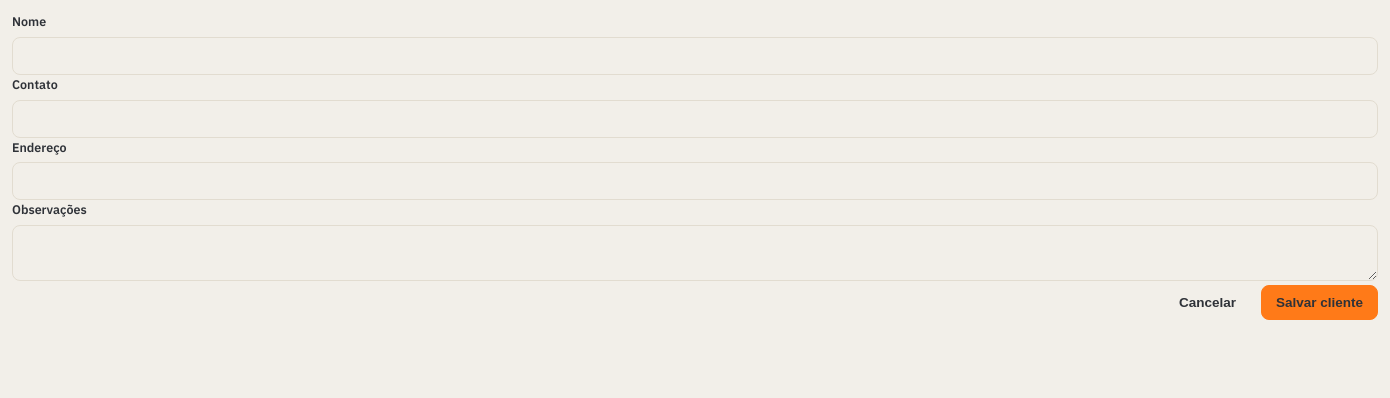
Test case: CustomerQuickCreateForm › exige o nome antes de submeter
Click the button "Salvar cliente". click: coordinates (1319, 302)
box: x1=1261 y1=285 x2=1378 y2=320
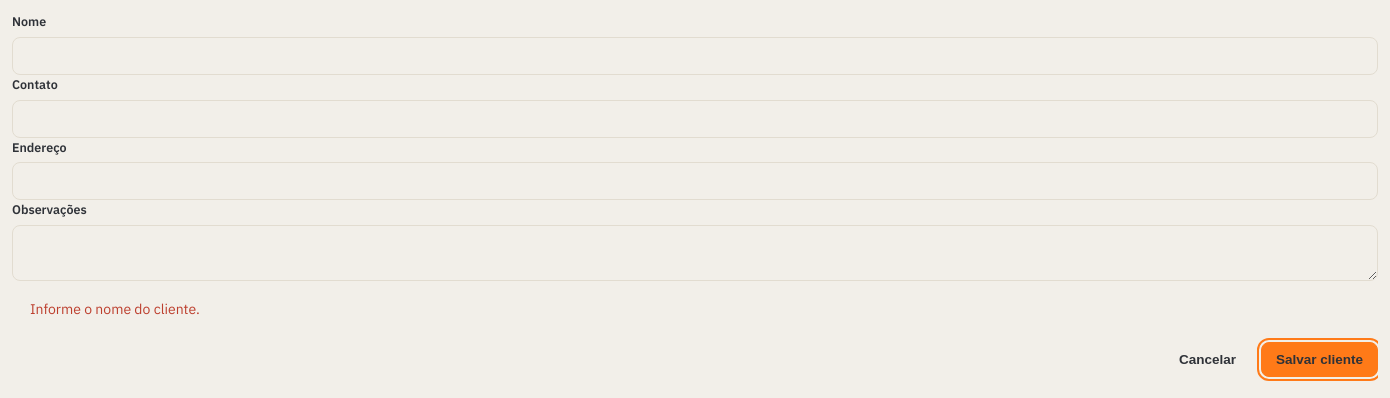
Expected: the text "Informe o nome do cliente." is shown, x1=30 y1=300 x2=200 y2=318
